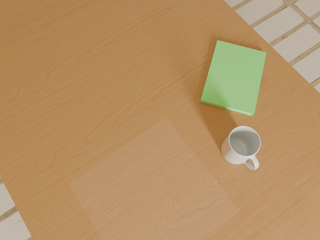book: (200, 40, 266, 116)
cup: (221, 126, 261, 170)
